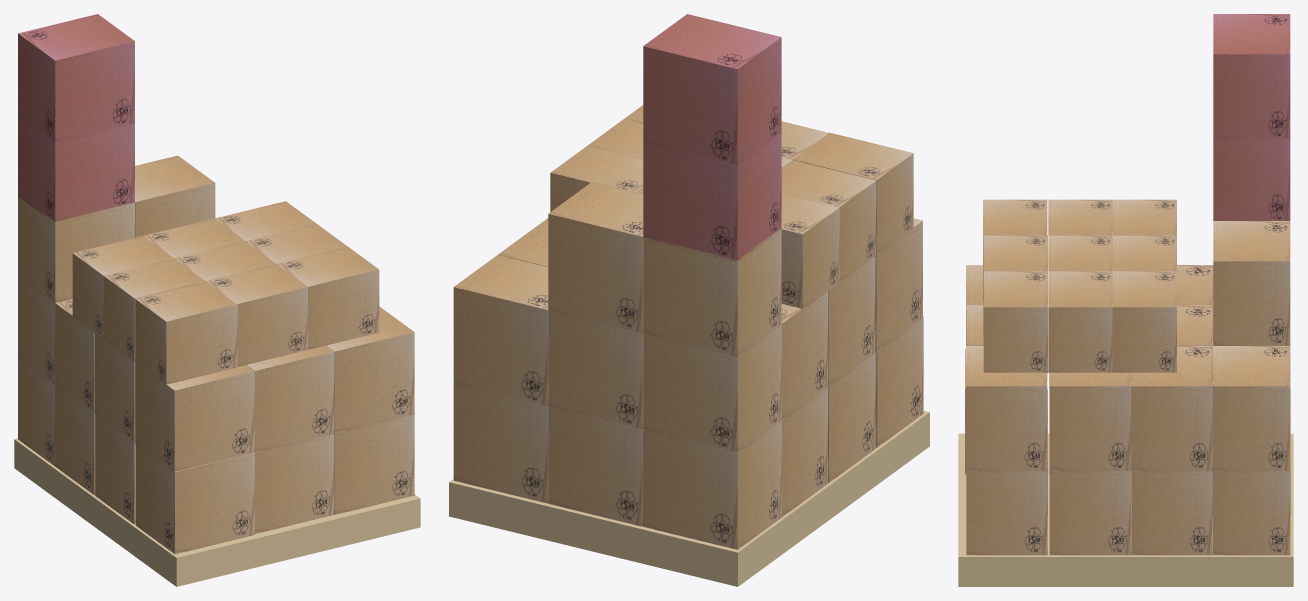
3 views of the same model, side by side, from view 1: azimuth 30°, elevation 25°; view 2: azimuth 150°, elevation 25°; view 3: azimuth 270°, elevation 25° (orthographic). The views are drawn at different scales.
Parts seen in each view (by area): view 1: Куб.7 (×7), Куб.9 (×6), Куб.8 (×3), 3.1, Куб.6 (×3), Куб, Куб.3, Куб.1, Куб.2, Куб.5, Куб.4; view 2: Куб.9 (×10), 3.1, Куб.6 (×3), Куб.7 (×3), Куб.8 (×3), Куб, Куб.2, Куб.1, Куб.3; view 3: Куб.9 (×5), Куб.8 (×5), Куб.7 (×5), Куб.6 (×3), 3.1, Куб.3, Куб, Куб.4, Куб.1, Куб.2, Куб.5.
Part boxes in pixels (left/top/right/bottom): Куб.7 (×7): left=135, top=224, right=414, bottom=554; Куб.9 (×6): left=18, top=14, right=215, bottom=466; Куб.8 (×3): left=55, top=246, right=379, bottom=495; 3.1: left=14, top=438, right=420, bottom=586; Куб.6 (×3): left=95, top=201, right=316, bottom=524; Куб: left=135, top=281, right=237, bottom=385; Куб.3: left=206, top=264, right=307, bottom=366; Куб.1: left=103, top=258, right=205, bottom=361; Куб.2: left=72, top=235, right=173, bottom=338; Куб.5: left=144, top=218, right=245, bottom=258; Куб.4: left=174, top=241, right=276, bottom=281; Куб.9 (×10): left=453, top=14, right=781, bottom=549; 3.1: left=449, top=411, right=929, bottom=586; Куб.6 (×3): left=550, top=146, right=875, bottom=482; Куб.7 (×3): left=587, top=119, right=923, bottom=447; Куб.8 (×3): left=498, top=220, right=827, bottom=517; Куб: left=793, top=132, right=913, bottom=255; Куб.2: left=781, top=193, right=839, bottom=309; Куб.1: left=781, top=160, right=876, bottom=282; Куб.3: left=781, top=121, right=828, bottom=159; Куб.9 (×5): left=1213, top=14, right=1290, bottom=555; Куб.8 (×5): left=983, top=265, right=1213, bottom=555; Куб.7 (×5): left=966, top=265, right=1112, bottom=555; Куб.6 (×3): left=1049, top=271, right=1176, bottom=555; 3.1: left=958, top=433, right=1293, bottom=586; Куб.3: left=983, top=235, right=1047, bottom=336; Куб: left=983, top=199, right=1047, bottom=300; Куб.4: left=1048, top=235, right=1112, bottom=271; Куб.1: left=1048, top=199, right=1112, bottom=235; Куб.2: left=1112, top=199, right=1176, bottom=235; Куб.5: left=1112, top=235, right=1176, bottom=271.
Size of the model in its own units: 200 by 341 by 230.
3 materials, 2 textured.
